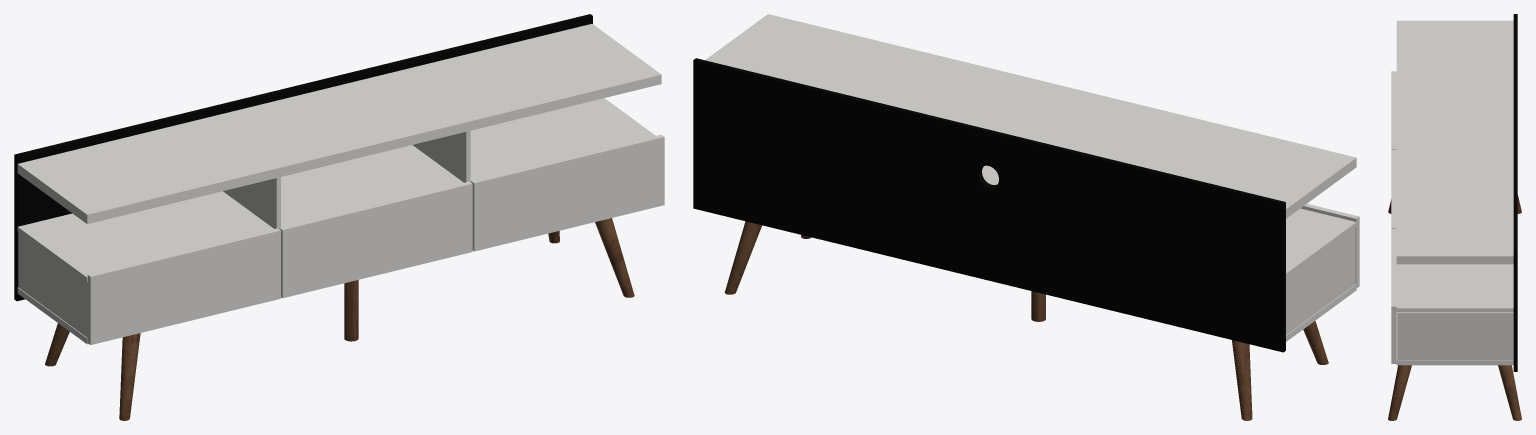
The model's file is Rack_Blender.gltf.
3 renders of one model, left to right at view 1: azimuth 30°, elevation 25°; view 2: azimuth 150°, elevation 25°; view 3: azimuth 270°, elevation 25°, orthographic. The views are drawn at different scales.
Visible parts, largest first — view 1: Box001, Box002, Box008, Box010, Box009, Box003, Plane002, Box006, Box007, VIFS077, VIFS079, VIFS069; view 2: Box003, Box001, Plane002, Box002, VIFS073, VIFS075, Box008; view 3: Box001, Box002, Plane001, Box003, Box011, Box010, VIFS079, VIFS075, Box008, Box009.
Boxes of the visible parts, left/top/right/bottom form: Box001: left=17, top=24, right=661, bottom=224; Box002: left=17, top=98, right=655, bottom=281; Box008: left=87, top=228, right=280, bottom=344; Box010: left=471, top=134, right=664, bottom=251; Box009: left=279, top=181, right=472, bottom=298; Box003: left=14, top=14, right=592, bottom=301; Plane002: left=18, top=232, right=87, bottom=337; Box006: left=413, top=131, right=470, bottom=182; Box007: left=223, top=177, right=280, bottom=228; VIFS077: left=119, top=333, right=140, bottom=420; VIFS079: left=595, top=218, right=634, bottom=297; VIFS069: left=344, top=280, right=358, bottom=341; Box003: left=693, top=58, right=1285, bottom=352; Box001: left=705, top=14, right=1356, bottom=218; Plane002: left=1286, top=227, right=1355, bottom=334; Box002: left=982, top=165, right=1356, bottom=277; VIFS073: left=1232, top=340, right=1252, bottom=420; VIFS075: left=724, top=221, right=761, bottom=294; Box008: left=1300, top=204, right=1359, bottom=287; Box001: left=1396, top=20, right=1513, bottom=264; Box002: left=1396, top=264, right=1513, bottom=311; Plane001: left=1397, top=312, right=1513, bottom=359; Box003: left=1513, top=14, right=1517, bottom=371; Box011: left=1396, top=312, right=1513, bottom=365; Box010: left=1391, top=228, right=1396, bottom=363; VIFS079: left=1388, top=365, right=1411, bottom=420; VIFS075: left=1498, top=365, right=1521, bottom=420; Box008: left=1391, top=71, right=1396, bottom=149; Box009: left=1391, top=150, right=1396, bottom=228.
Size of the model in its own units: 1.61 by 0.5816 by 0.3847.
Materials: 4 (1 with a texture image).
